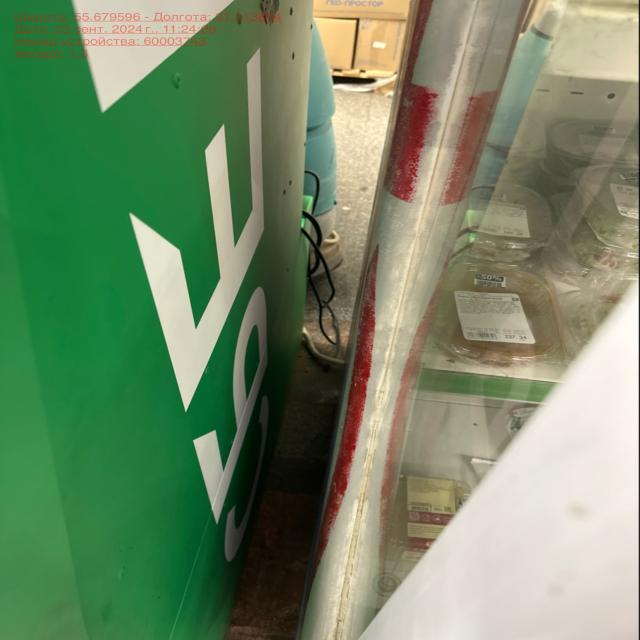bank: (0, 0, 308, 640)
